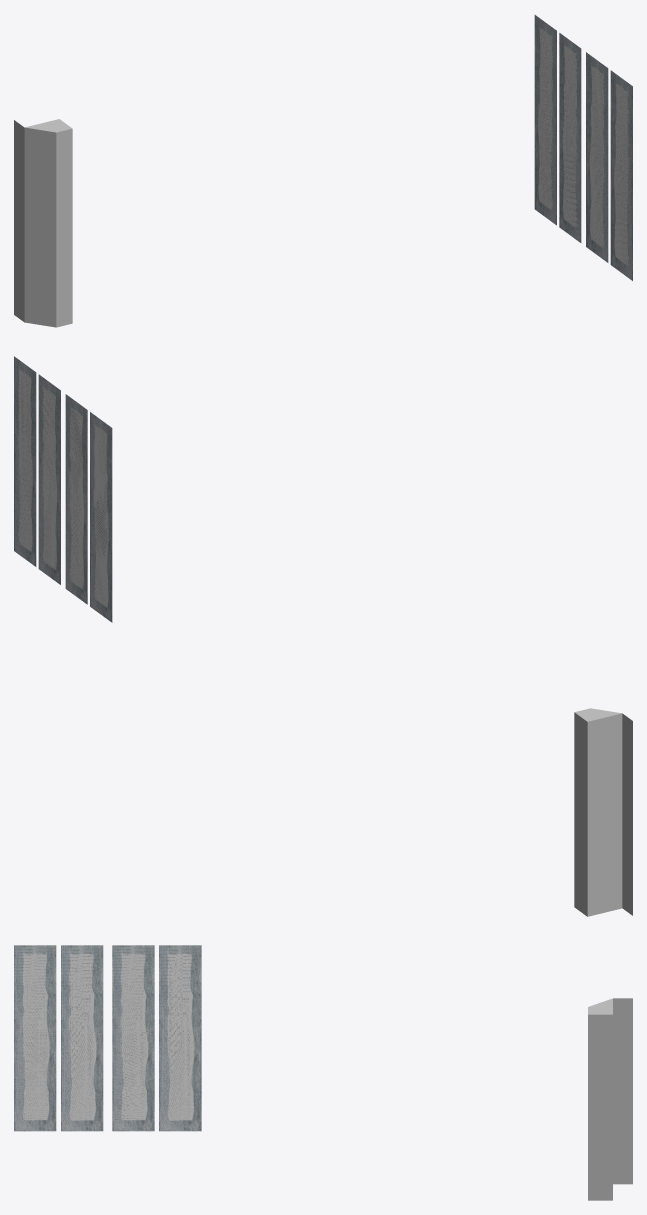
The model's file is WINDOW_FROST.dae.
3 renders of one model, top to bottom at view 1: azimuth 30°, elevation 25°; view 2: azimuth 210°, elevation 25°; view 3: azimuth 270°, elevation 25°, orthographic. The views are drawn at different scales.
Parts seen in each view (by area): view 1: SketchUp (×5); view 2: SketchUp (×5); view 3: SketchUp (×5).
Part boxes in pixels (x1,y1,x2,y2): SketchUp (×5): (14,15,632,327); SketchUp (×5): (14,356,632,916); SketchUp (×5): (14,945,632,1200).
Bounding box in the file's own units: 72.66 × 139 × 92.98.
